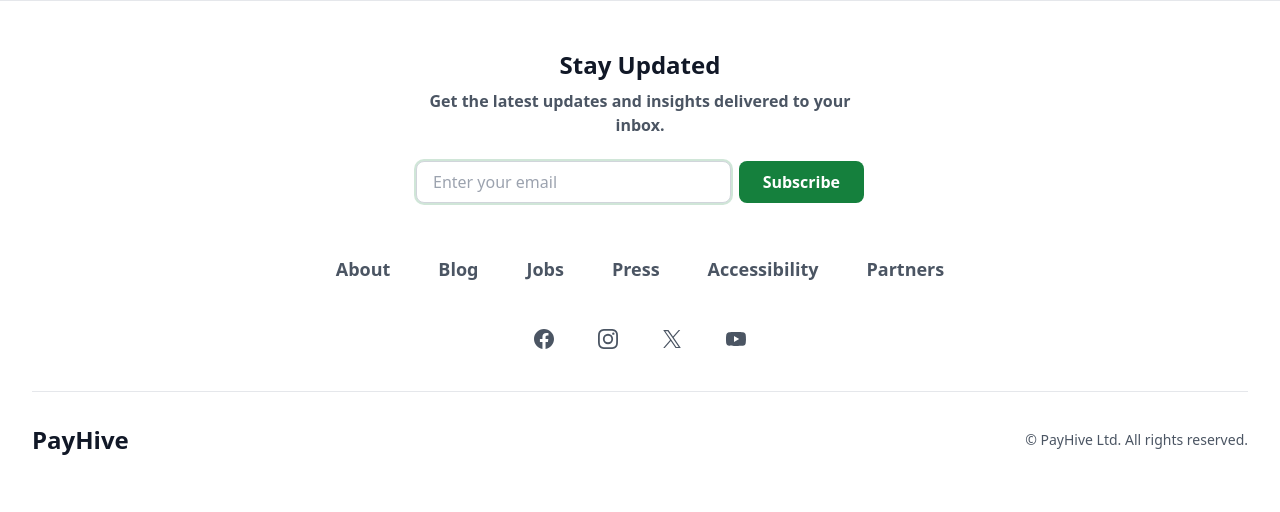
Scenario: Footer Component › Newsletter Subscription › handles failed newsletter subscription
The image size is (1280, 512).
Type "test@example.com" into the field with placeholder "Enter your email" at (573,182), box [416, 161, 731, 203]
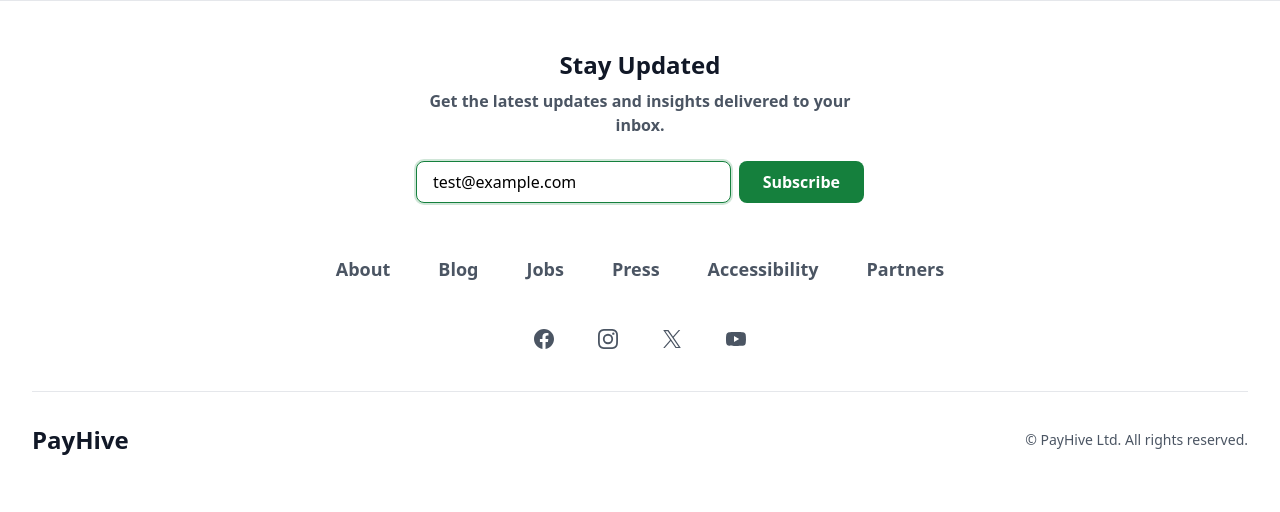
Click the button "Subscribe" at (801,182), box [739, 161, 864, 203]
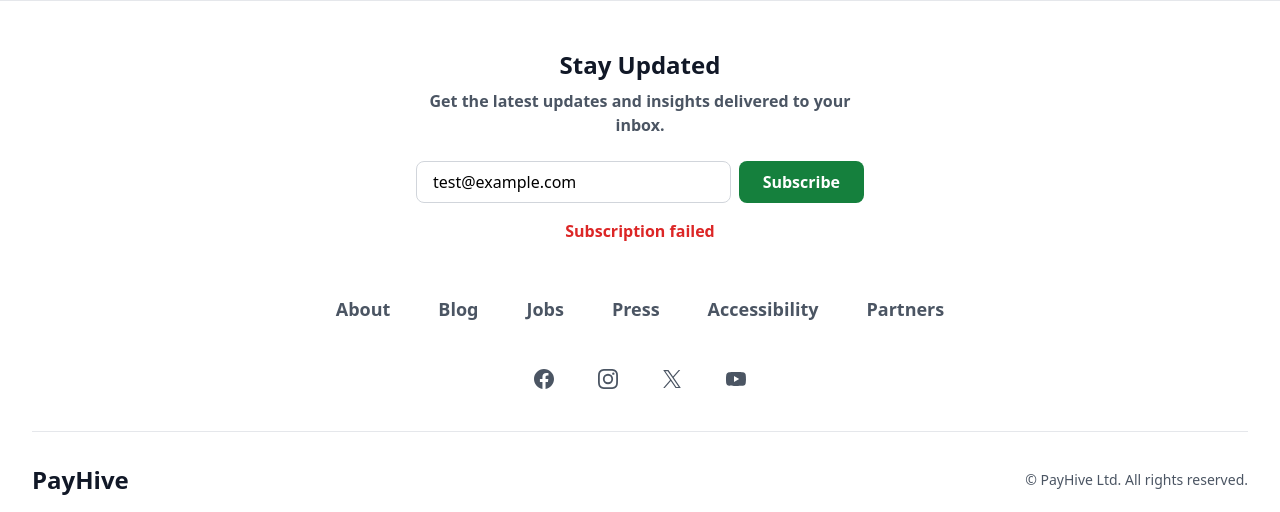
Expected: the field with placeholder "Enter your email" is enabled, [416, 161, 731, 203]
Now the text "Subscription failed" is shown, box [565, 220, 715, 242]
